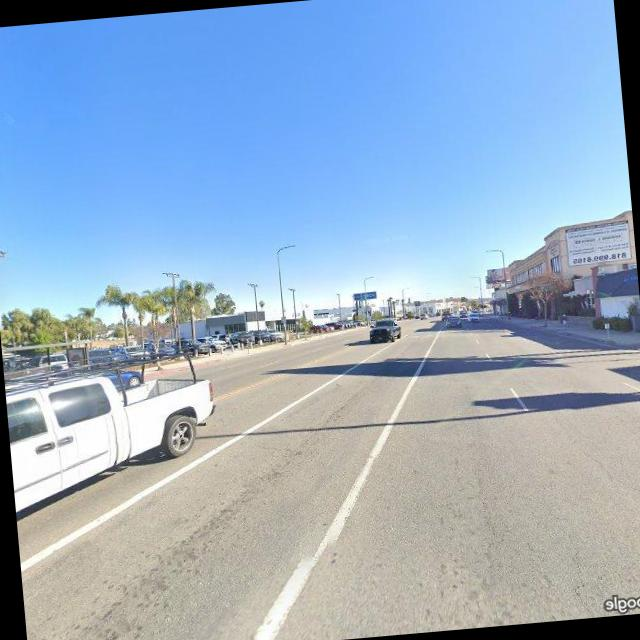pothole: (568, 546, 594, 612), (635, 482, 640, 519)
